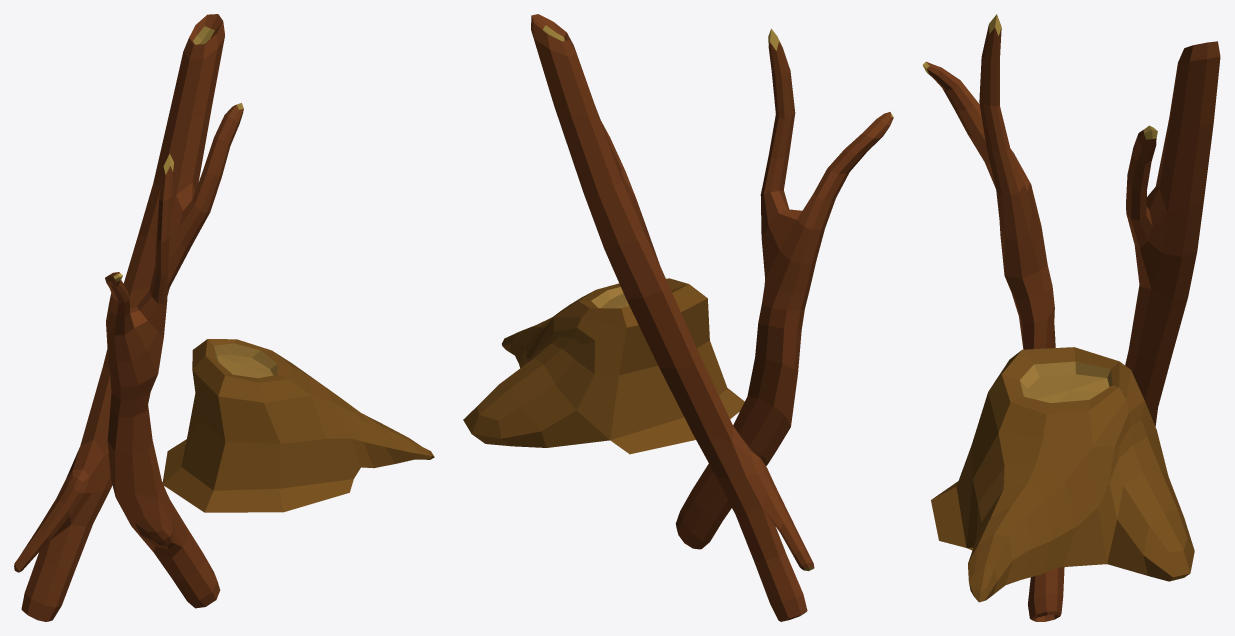
File: Log.fbx
3 views of the same model, side by side, from view 1: azimuth 30°, elevation 25°; view 2: azimuth 150°, elevation 25°; view 3: azimuth 270°, elevation 25° (orthographic). The views are drawn at different scales.
Parts seen in each view (by area): view 1: Log_1; view 2: Log_1; view 3: Log_1.
Boxes of the visible parts, x1,y1,x2,y2 form: Log_1: (14,14,434,621); Log_1: (463,14,893,621); Log_1: (922,14,1220,621).
Bounding box in the file's own units: 120 × 172 × 72.11.
